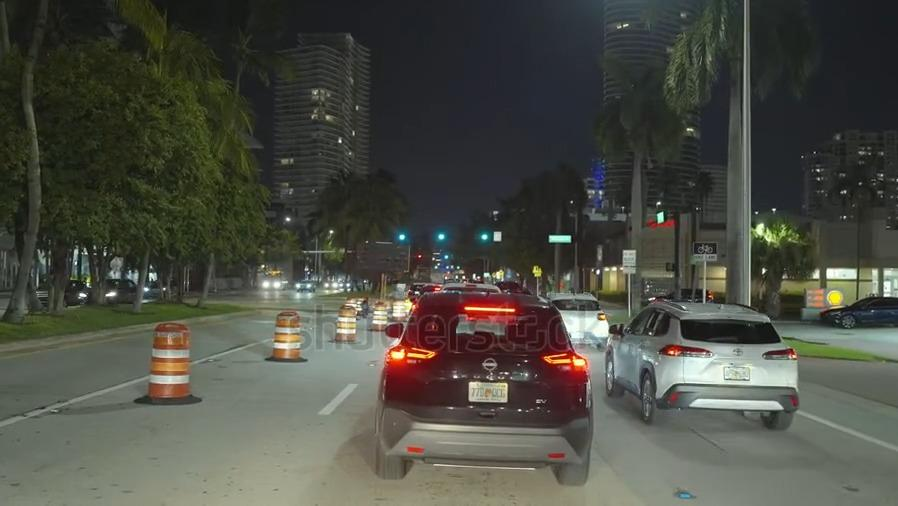bus: (261, 266, 287, 291)
car: (380, 296, 592, 483), (602, 300, 796, 431), (817, 292, 898, 335), (545, 294, 611, 343), (78, 277, 139, 307), (644, 283, 714, 306), (29, 279, 78, 309), (143, 277, 185, 302), (296, 277, 314, 292)
cone: (146, 320, 192, 398), (269, 308, 302, 358), (333, 300, 355, 345), (385, 295, 405, 322), (369, 298, 385, 330)
traffic light: (474, 226, 495, 253), (430, 225, 450, 251), (393, 228, 410, 246)
wheel: (630, 369, 657, 427), (597, 354, 621, 393)
